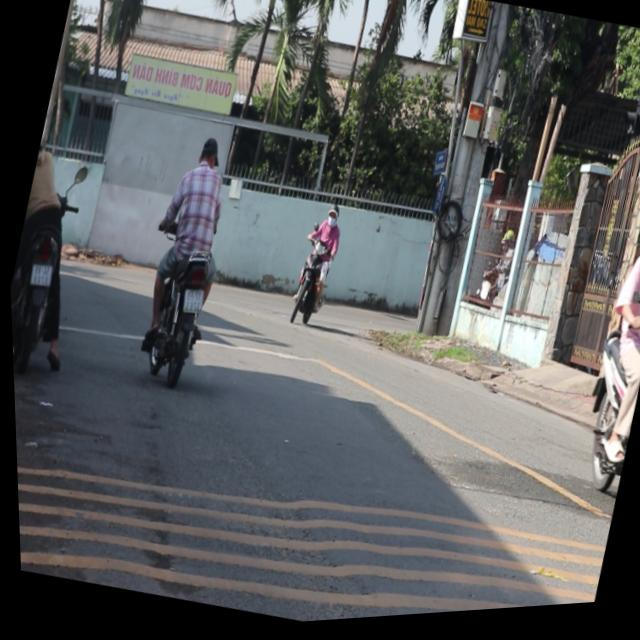licenseplate: (120, 125, 252, 392), (552, 196, 640, 521), (4, 124, 108, 374)
motorcyclist: (194, 134, 223, 171)
nohelmet: (178, 286, 203, 316), (26, 260, 51, 287)
